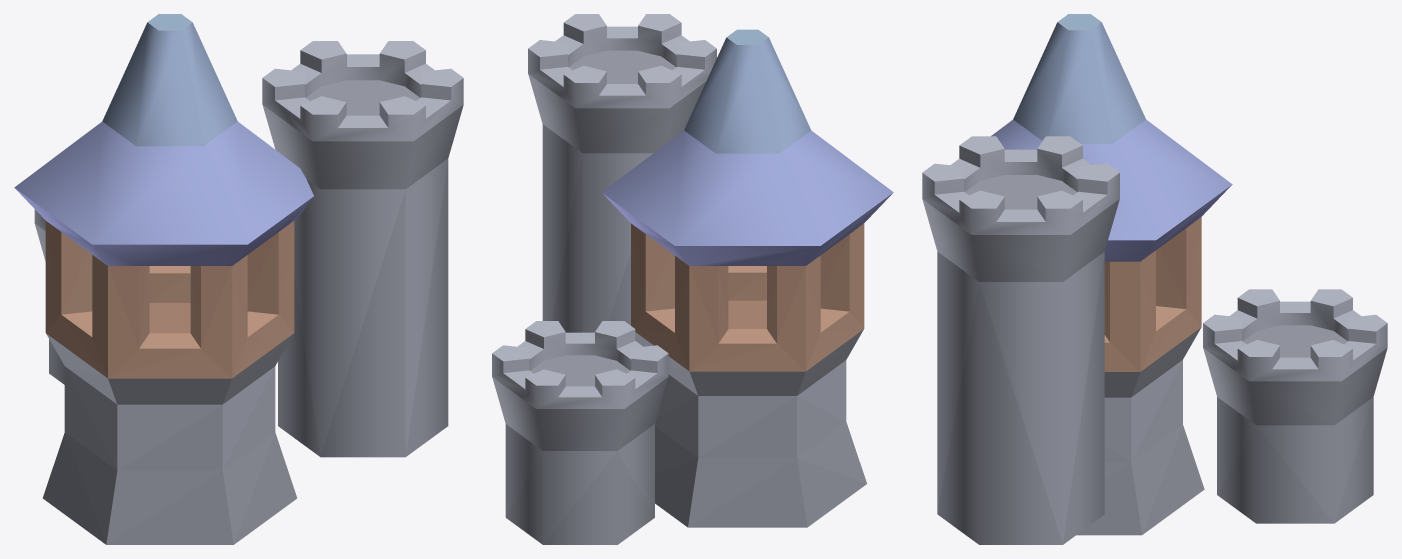
File: building-wizard-tower.glb
3 views of the same model, side by side, from view 1: azimuth 30°, elevation 25°; view 2: azimuth 150°, elevation 25°; view 3: azimuth 270°, elevation 25° (orthographic). The views are drawn at different scales.
Visible parts, largest first — view 1: building-wizard-tower; view 2: building-wizard-tower; view 3: building-wizard-tower.
Part boxes in pixels (x1,y1,x2,y2): building-wizard-tower: (14,14,463,544); building-wizard-tower: (492,14,893,544); building-wizard-tower: (922,14,1387,544).
Size of the model in its own units: 0.5629 by 0.72 by 0.6499.
